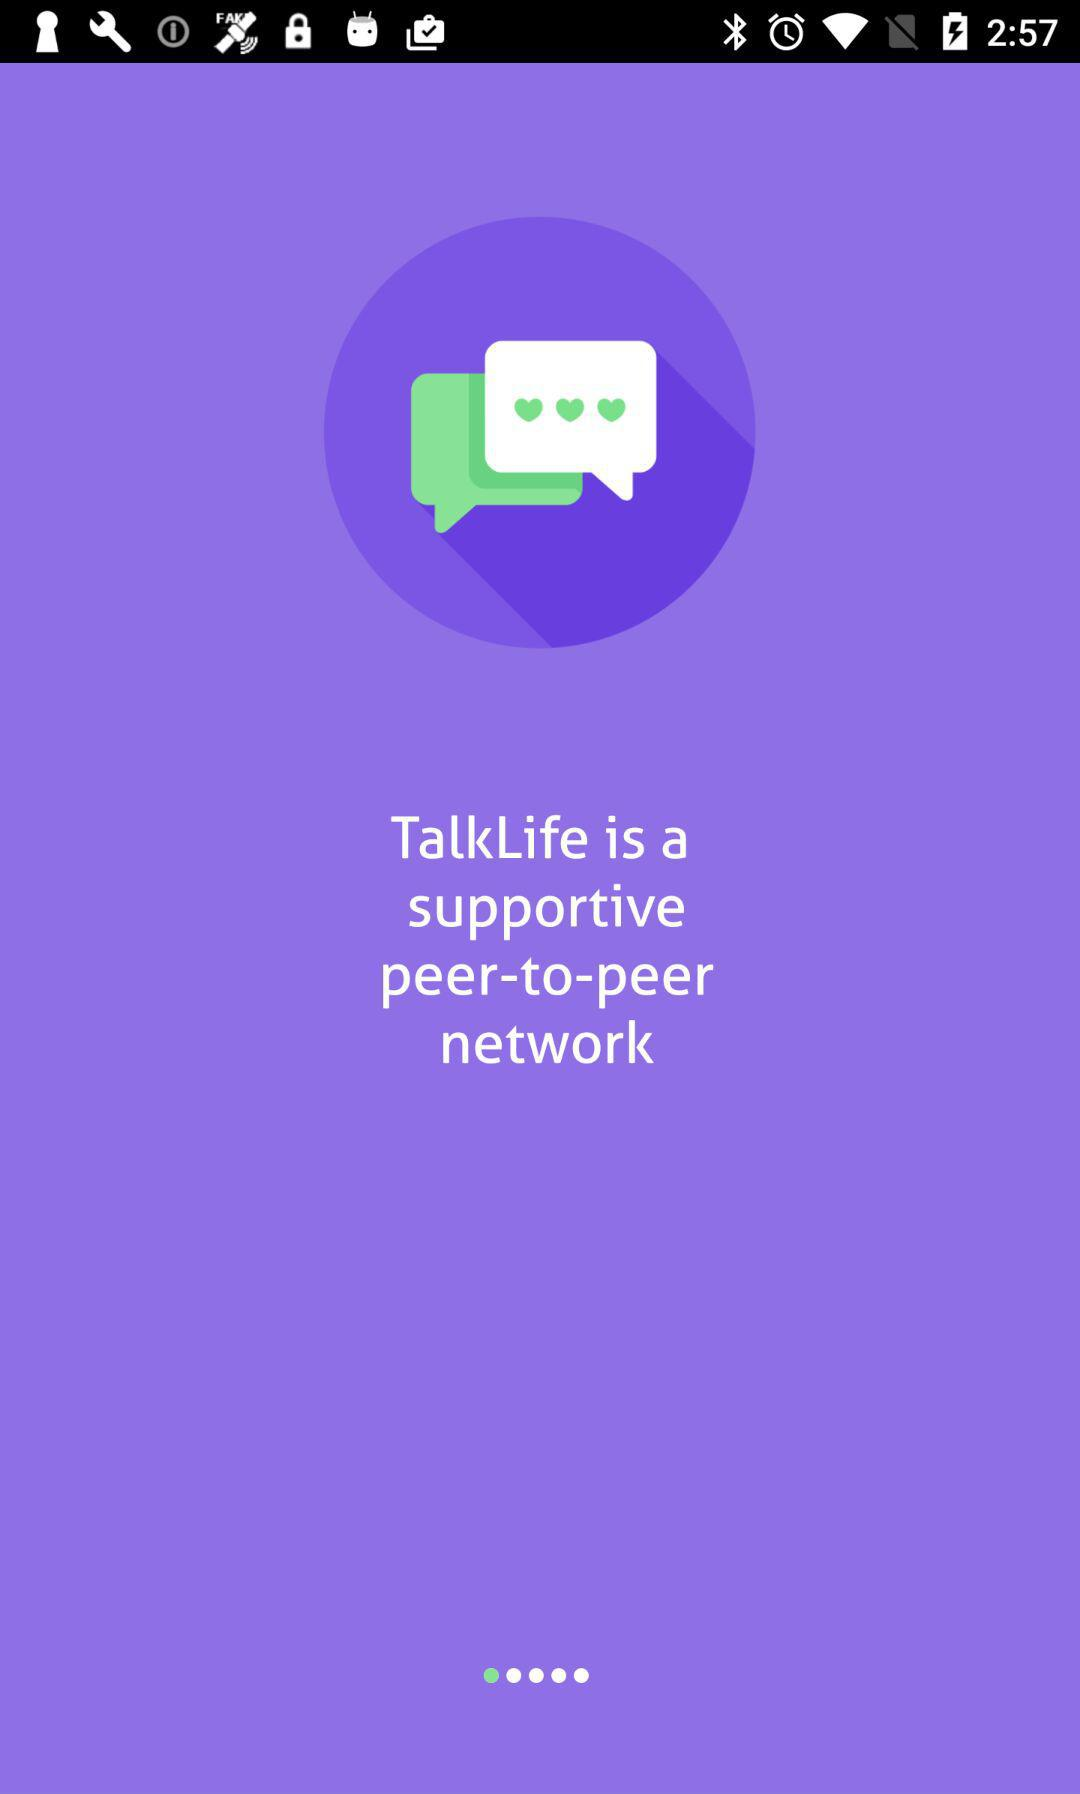Image: (323, 215, 758, 652)
PageIndicator: (482, 1666, 591, 1685)
Text: (380, 812, 716, 1067)
UpperTaskBar: (1, 1, 1080, 64)
